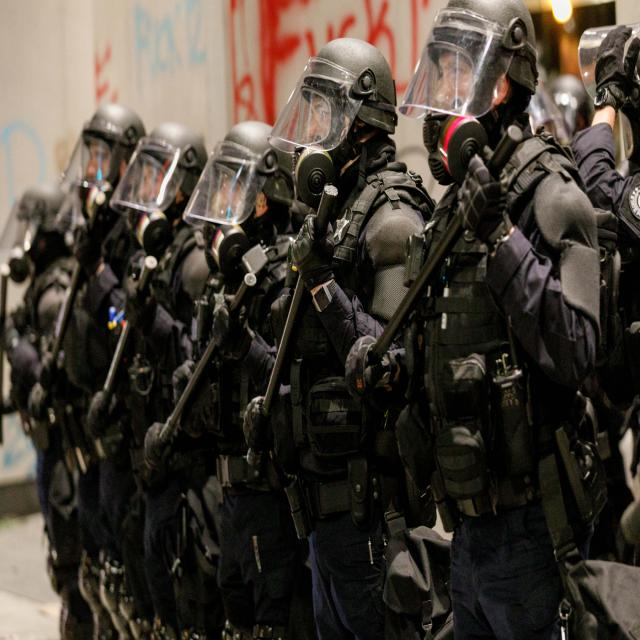police: (395, 0, 631, 640), (268, 0, 432, 640), (178, 0, 292, 640), (36, 0, 138, 640), (120, 0, 209, 640), (0, 159, 93, 624)
